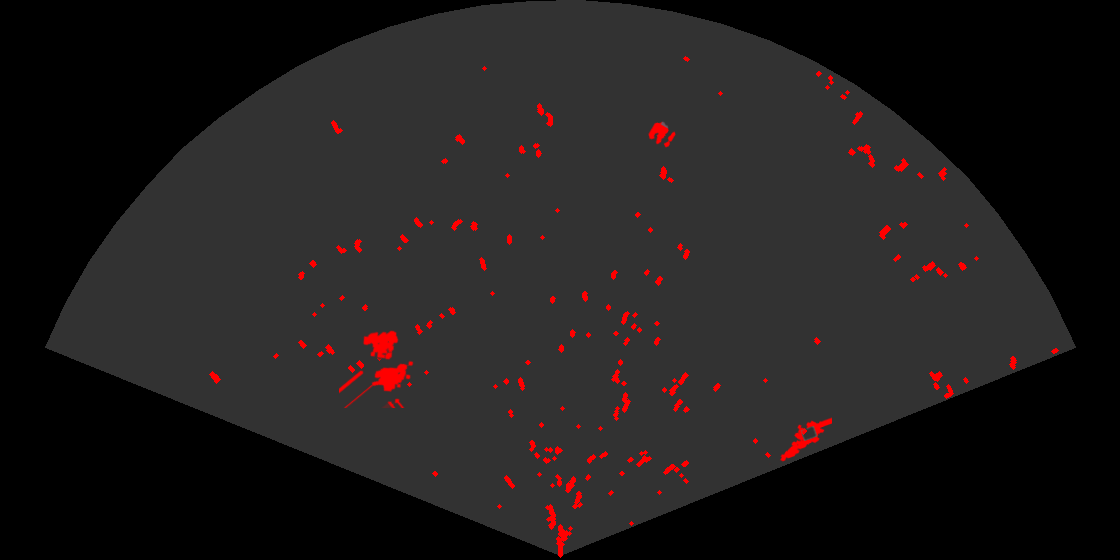ball: (647, 120, 677, 149)
cage: (339, 329, 415, 408)
frogman: (769, 416, 832, 465)
